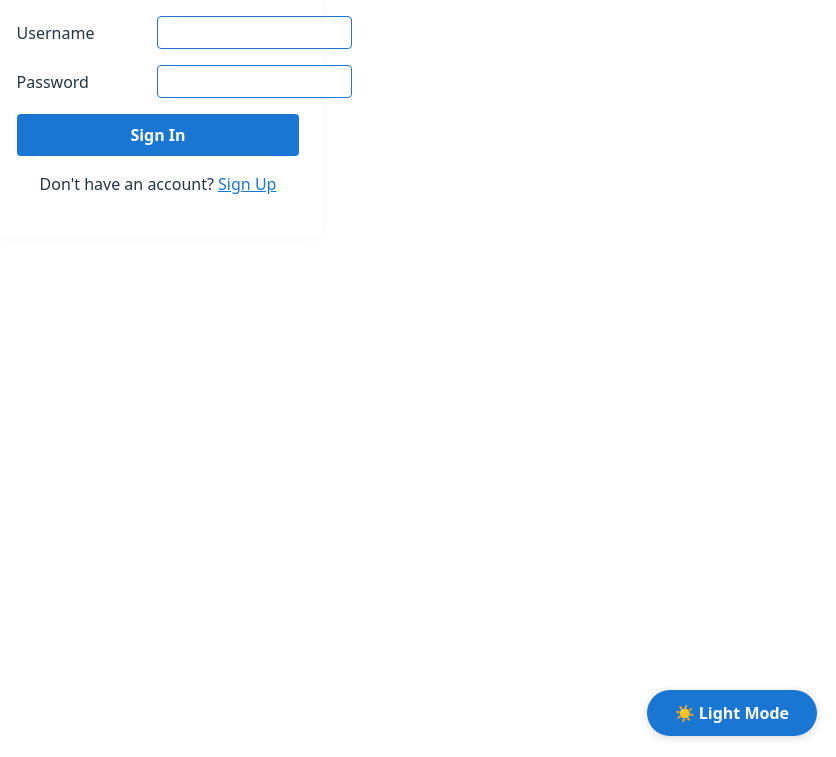
Scenario: SignInForm › if fields are empty it will give an error
Step 1. Click the button "Sign In" → point(158, 135), box x1=17 y1=114 x2=299 y2=156
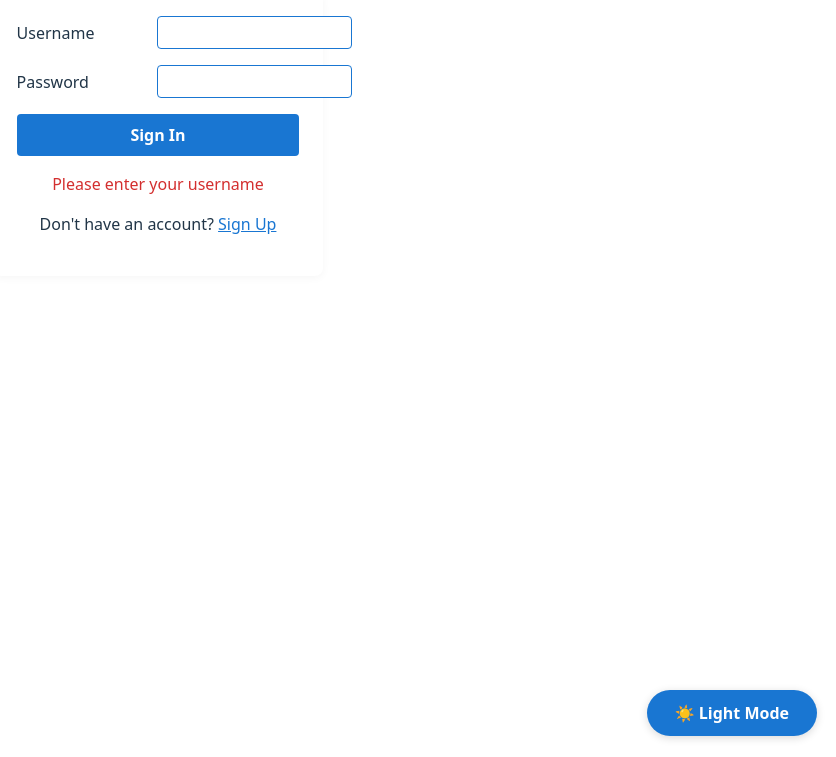
Result: the text "Please enter your username" is shown at x1=52 y1=173 x2=264 y2=195
